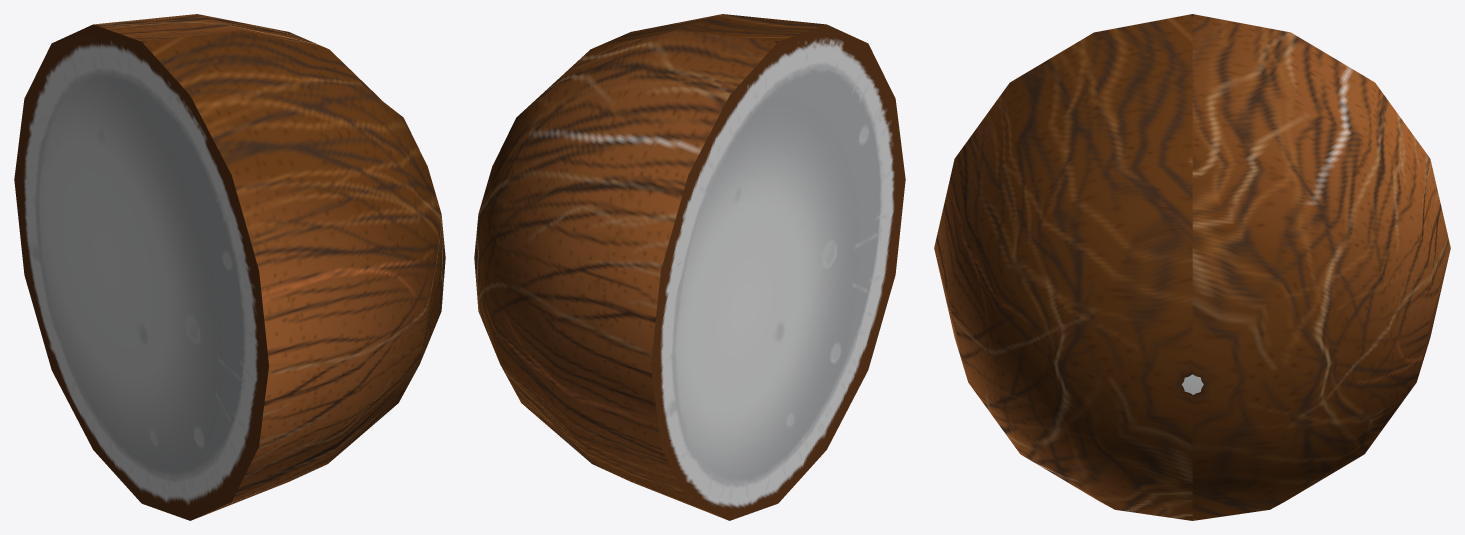
The model's file is CoconutS.FBX.
3 renders of one model, left to right at view 1: azimuth 30°, elevation 25°; view 2: azimuth 150°, elevation 25°; view 3: azimuth 270°, elevation 25°, orthographic.
Parts seen in each view (by area): view 1: CoconutS; view 2: CoconutS; view 3: CoconutS.
Part boxes in pixels (x1,y1,x2,y2): CoconutS: [14, 14, 445, 520]; CoconutS: [474, 14, 905, 520]; CoconutS: [934, 14, 1450, 520].
Size of the model in its own units: 16 by 25.3 by 25.3.
